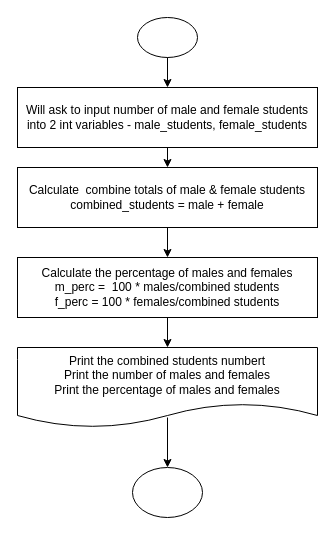
Some shapes in this 335 by 535 pixel diagram are drawn without their labels. The centre of each missing label's shape, as x and y in pixels:
End: point (167, 492)
Start: point (167, 37)
